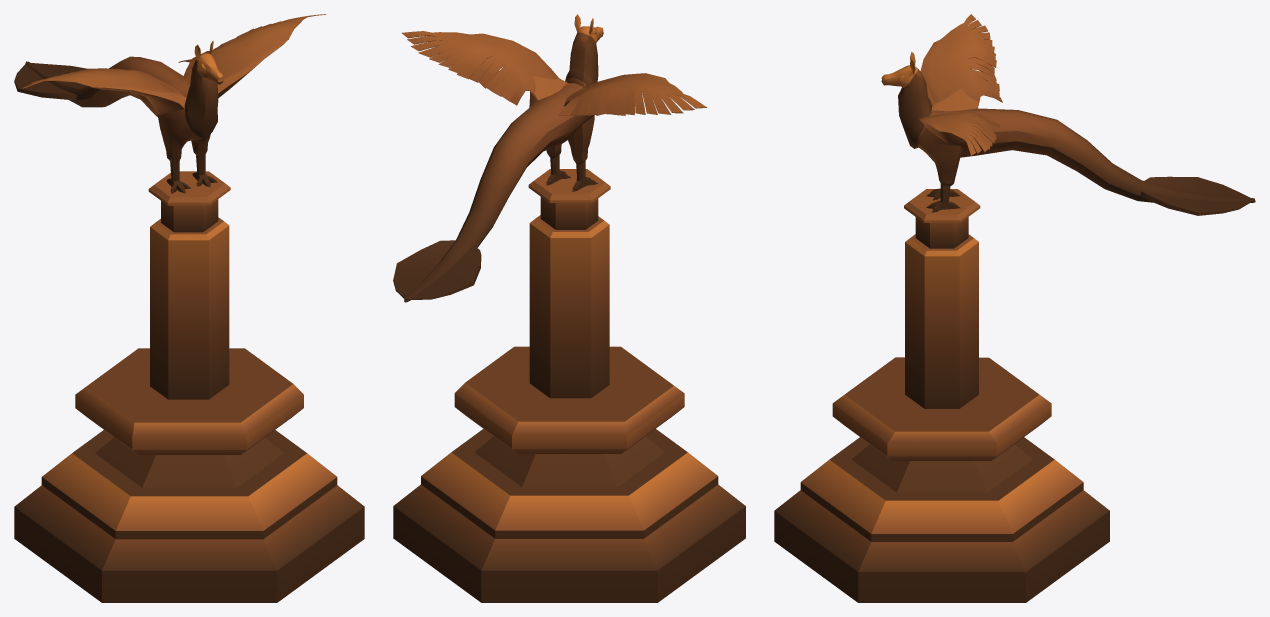
File: MonolitosDemoniacoOk.fbx
The picture shows the model from 3 angles, left to right: view 1: azimuth 30°, elevation 25°; view 2: azimuth 150°, elevation 25°; view 3: azimuth 270°, elevation 25°; orthographic projection. The views are drawn at different scales.
Visible parts, largest first — view 1: MonolitoDemoniaco; view 2: MonolitoDemoniaco; view 3: MonolitoDemoniaco.
Boxes of the visible parts, box(x1,y1,x2,y2) form: MonolitoDemoniaco: box(14, 14, 364, 602); MonolitoDemoniaco: box(393, 14, 745, 602); MonolitoDemoniaco: box(774, 14, 1255, 602).
Bounding box in the file's own units: 1001 × 1599 × 1434.
1 material, 1 textured.
